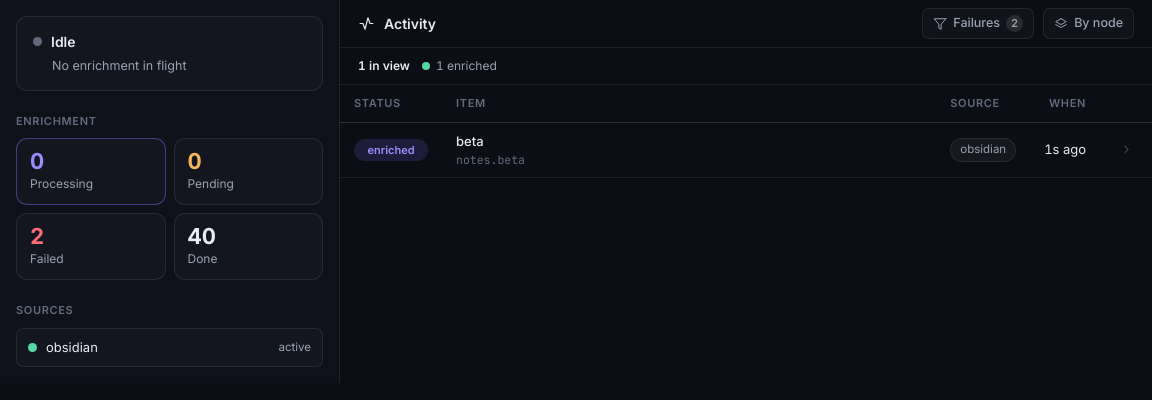
it: IngestionPage › shows which model backends enriched a node in the by-node view
Click the button "By node" at coordinates (1089, 24), box [1043,8,1134,39]
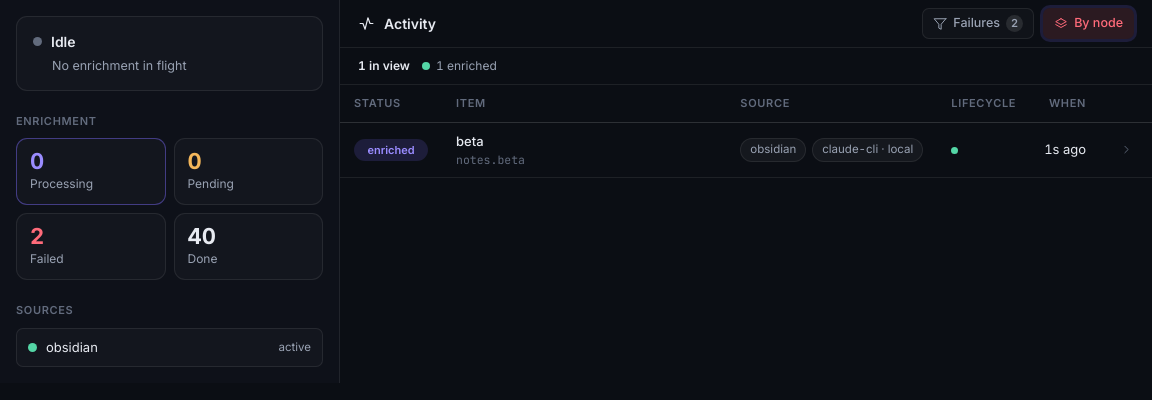
# expanding the row reveals the full provider:model strings
Click the text "beta" at coordinates (470, 140), box [456,132,484,148]
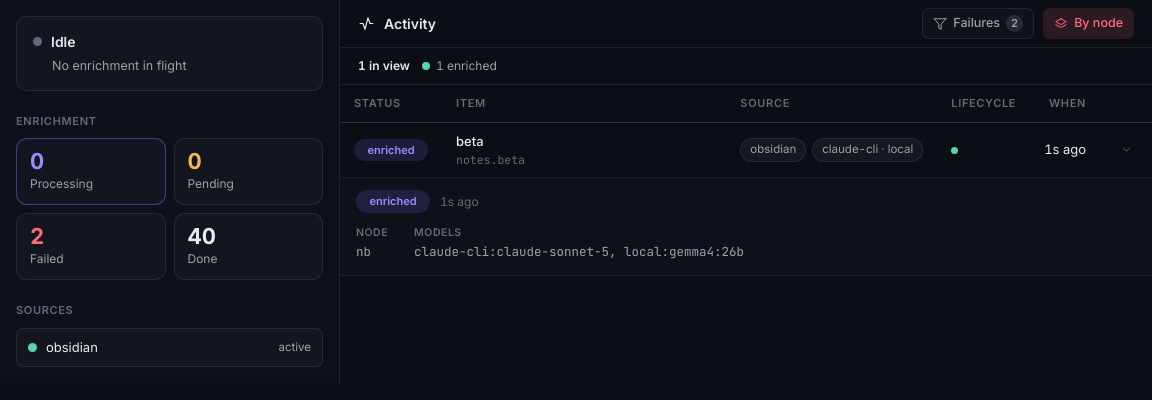
Check: the text "claude-cli:claude-sonnet-5, local:gemma4:26b" is shown, box [414,242,744,261]
